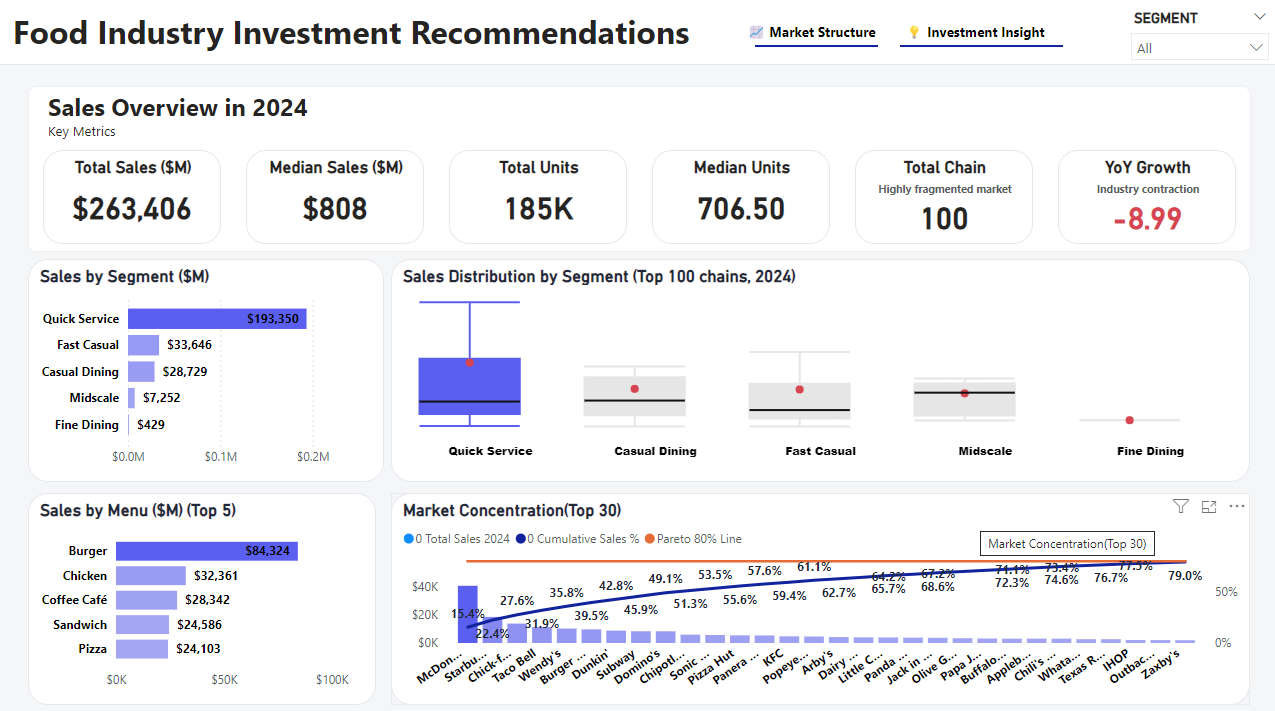

The page's visual inventory and layout, read from the dashboard file:
{"tool":"powerbi","page":{"name":"🔎 Overview","canvas":[1280,720],"ordinal":0},"visuals":[{"type":"actionButton","box":[709.3,14.6,206.8,36.1],"z":0,"group":"g2"},{"type":"shape","box":[0,66.3,1280,649.4],"z":0},{"type":"card","title":"Total Sales ($M)","fields":{"Values":["Top100RestaurantChains.2024 Total sales"]},"box":[43.9,152.2,178.3,93.7],"z":0,"group":"g1"},{"type":"actionButton","box":[883.9,14.6,184.4,36.1],"z":1000,"group":"g3"},{"type":"shape","box":[756.7,41.4,122.8,12.7],"z":1000,"group":"g2"},{"type":"shape","box":[29.3,87.8,1222.4,165.9],"z":1000},{"type":"card","title":"Median Sales ($M)","fields":{"Values":["Top100RestaurantChains.Medium Sale"]},"box":[246.9,152.2,178.3,93.7],"z":1000,"group":"g1"},{"type":"textbox","box":[44.3,87.3,299.1,73],"z":2000},{"type":"card","title":"Total Units","fields":{"Values":["Top100RestaurantChains.Total Units 2024"]},"box":[449.8,152.2,178.3,93.7],"z":2000,"group":"g1"},{"type":"textbox","box":[0,5.9,709.4,59.6],"z":3000},{"type":"card","title":"Median Units","fields":{"Values":["Top100RestaurantChains.0 Median Units 2024"]},"box":[652.8,152.2,178.3,93.7],"z":3000,"group":"g1"},{"type":"group","id":"g1","title":"Group 1","box":[43.9,152.2,1193.2,93.7],"z":4000},{"type":"card","title":"Total Chain","fields":{"Values":["Top100RestaurantChains.Total Chain"]},"box":[855.8,152.2,178.3,93.7],"z":4000,"group":"g1"},{"type":"card","title":"YoY Growth","fields":{"Values":["Top100RestaurantChains.0 YoY Growth 2024"]},"box":[1058.8,152.2,178.3,93.7],"z":5000,"group":"g1"},{"type":"clusteredBarChart","title":"Sales by Segment ($M)","fields":{"Y":["Top100RestaurantChains.0 Total Sales 2024"],"Category":["Top100RestaurantChains.SEGMENT"]},"box":[28.7,260.9,355.9,223.3],"z":5000},{"type":"barChart","title":"Sales by Menu ($M) (Top 5)","fields":{"Category":["Top100RestaurantChains.MENU CATEGORY"],"Y":["Top100RestaurantChains.0 Total Sales 2024"]},"box":[28.7,495.2,348.2,212.2],"z":6000},{"type":"lineClusteredColumnComboChart","title":"Market Concentration(Top 30)","fields":{"Category":["Top100RestaurantChains.CHAIN"],"Y":["Top100RestaurantChains.0 Total Sales 2024"],"Y2":["Top100RestaurantChains.0 Cumulative Sales %","Top100RestaurantChains.Pareto 80% Line"]},"box":[392.4,495.2,858.9,212.2],"z":7000},{"type":"slicer","fields":{"Values":["Top100RestaurantChains.SEGMENT"]},"box":[1122,6.8,158,59.5],"z":8000},{"type":"group","id":"g2","title":"Group 2","box":[709.3,14.6,206.8,39],"z":9000},{"type":"group","id":"g3","title":"Group 3","box":[883.9,14.6,184.4,39],"z":10000},{"type":"shape","box":[900.5,41.9,163.9,11.7],"z":10002,"group":"g3"},{"type":"BoxWhiskerChart1455240051538","title":"Sales Distribution by Segment (Top 100 chains, 2024)","fields":{"Groups":["Top100RestaurantChains.SEGMENT"],"Values":["Avg(Top100RestaurantChains.2024 U.S. Sales ($000,000))"],"Samples":["Top100RestaurantChains.CHAIN"]},"box":[392.4,260.9,858.9,223.3],"z":11000}]}

Visuals, with their boxes in screenshot pixels (x1, y1, x2, y2), scaled from the page's 1280x720 canvas onto the 1275x711 screenshot:
actionButton: 707, 14, 913, 50
shape: 0, 65, 1274, 707
"Total Sales ($M)" card: 44, 150, 221, 243
actionButton: 880, 14, 1064, 50
shape: 754, 41, 876, 53
shape: 29, 87, 1247, 251
"Median Sales ($M)" card: 246, 150, 424, 243
textbox: 44, 86, 342, 158
"Total Units" card: 448, 150, 626, 243
textbox: 0, 6, 707, 65
"Median Units" card: 650, 150, 828, 243
"Group 1" group: 44, 150, 1232, 243
"Total Chain" card: 852, 150, 1030, 243
"YoY Growth" card: 1055, 150, 1232, 243
"Sales by Segment ($M)" clusteredBarChart: 29, 258, 383, 478
"Sales by Menu ($M) (Top 5)" barChart: 29, 489, 375, 699
"Market Concentration(Top 30)" lineClusteredColumnComboChart: 391, 489, 1246, 699
slicer - Top100RestaurantChains.SEGMENT: 1118, 7, 1274, 65
"Group 2" group: 707, 14, 913, 53
"Group 3" group: 880, 14, 1064, 53
shape: 897, 41, 1060, 53
"Sales Distribution by Segment (Top 100 chains, 2024)" BoxWhiskerChart1455240051538: 391, 258, 1246, 478
